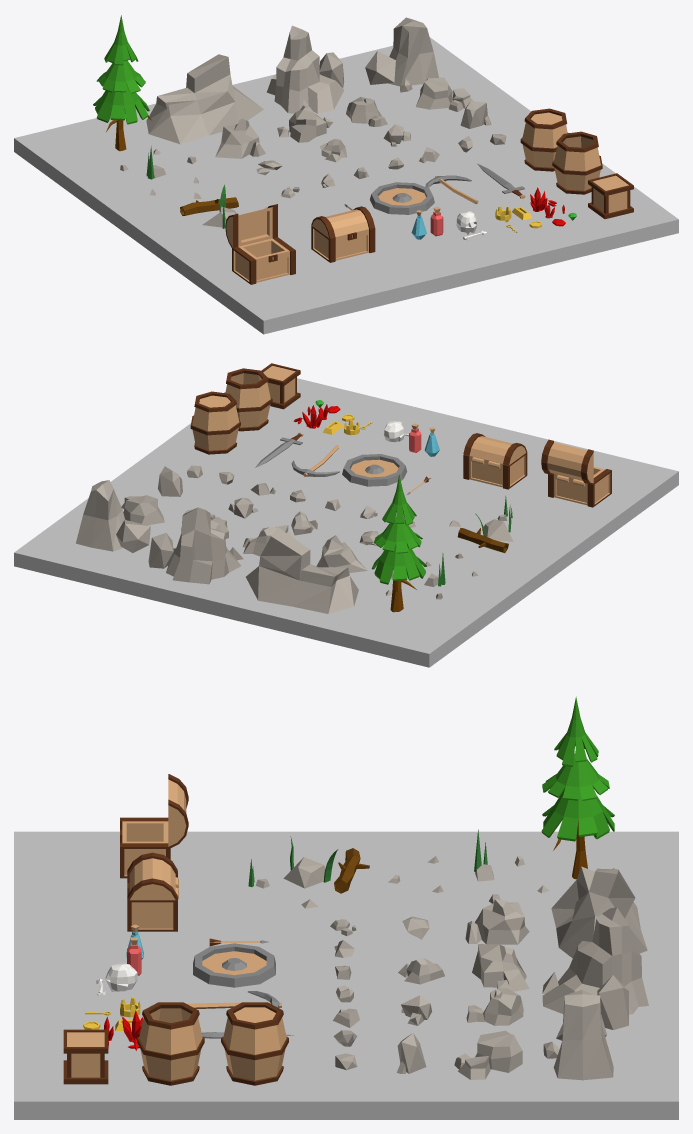
The picture shows the model from 3 angles, top to bottom: view 1: azimuth 30°, elevation 25°; view 2: azimuth 150°, elevation 25°; view 3: azimuth 270°, elevation 25°; orthographic projection. The views are drawn at different scales.
Parts seen in each view (by area): view 1: Ground_Ground_0, Stone_1_Stone_0, Stone_2_Stone_0, Stone_3_Stone_0, Tree_Fir_Tree_Fir_Foliage_0, Chest_Closed_Wood_1_0, Barrel_Open_Wood_1_0, Chest_Open_Wood_1_0, Barrel_Closed_Wood_1_0, Stone_4_Stone_0, Stone_7_Stone_0, Chest_Open_Cap_Wood_1_0 (+12 smaller); view 2: Ground_Ground_0, Stone_1_Stone_0, Stone_2_Stone_0, Stone_3_Stone_0, Tree_Fir_Tree_Fir_Foliage_0, Chest_Closed_Wood_1_0, Barrel_Closed_Wood_1_0, Barrel_Open_Wood_1_0, Shield_Stell_0, Chest_Open_Cap_Wood_1_0, Chest_Open_Wood_1_0, Stone_4_Stone_0 (+13 smaller); view 3: Ground_Ground_0, Stone_2_Stone_0, Tree_Fir_Tree_Fir_Foliage_0, Stone_1_Stone_0, Stone_3_Stone_0, Barrel_Closed_Wood_1_0, Barrel_Open_Wood_1_0, Chest_Closed_Wood_1_0, Shield_Stell_0, Stone_7_Stone_0, Stone_4_Stone_0, Stone_5_Stone_0 (+16 smaller).
Part boxes in pixels (box(x1,y1,x2,y2)): Ground_Ground_0: box(14, 37, 678, 334); Stone_1_Stone_0: box(146, 54, 263, 144); Stone_2_Stone_0: box(266, 25, 344, 113); Stone_3_Stone_0: box(365, 17, 438, 92); Tree_Fir_Tree_Fir_Foliage_0: box(93, 15, 149, 124); Chest_Closed_Wood_1_0: box(312, 209, 368, 260); Barrel_Open_Wood_1_0: box(554, 136, 600, 190); Chest_Open_Wood_1_0: box(233, 238, 289, 282); Barrel_Closed_Wood_1_0: box(522, 112, 567, 167); Stone_4_Stone_0: box(215, 118, 265, 158); Stone_7_Stone_0: box(416, 77, 473, 111); Chest_Open_Cap_Wood_1_0: box(226, 207, 272, 247); Ground_Ground_0: box(14, 378, 678, 667); Stone_1_Stone_0: box(246, 527, 358, 613); Stone_2_Stone_0: box(148, 507, 243, 584); Stone_3_Stone_0: box(76, 480, 150, 552); Tree_Fir_Tree_Fir_Foliage_0: box(371, 474, 426, 584); Chest_Closed_Wood_1_0: box(469, 436, 526, 487); Barrel_Closed_Wood_1_0: box(192, 395, 239, 450); Barrel_Open_Wood_1_0: box(225, 373, 270, 427); Shield_Stell_0: box(342, 454, 407, 486); Chest_Open_Cap_Wood_1_0: box(547, 442, 593, 483); Chest_Open_Wood_1_0: box(554, 466, 610, 505); Stone_4_Stone_0: box(316, 535, 367, 572); Ground_Ground_0: box(14, 831, 678, 1119); Stone_2_Stone_0: box(542, 907, 648, 1029); Tree_Fir_Tree_Fir_Foliage_0: box(541, 696, 614, 841); Stone_1_Stone_0: box(551, 866, 647, 958); Stone_3_Stone_0: box(543, 990, 613, 1080); Barrel_Closed_Wood_1_0: box(223, 1007, 286, 1080); Barrel_Open_Wood_1_0: box(139, 1008, 202, 1080); Chest_Closed_Wood_1_0: box(129, 858, 178, 929); Shield_Stell_0: box(193, 943, 275, 987); Stone_7_Stone_0: box(454, 1030, 522, 1079); Stone_4_Stone_0: box(465, 899, 529, 944); Stone_5_Stone_0: box(472, 944, 529, 991).
Bounding box in the file's own units: 2182 × 747 × 2270.
